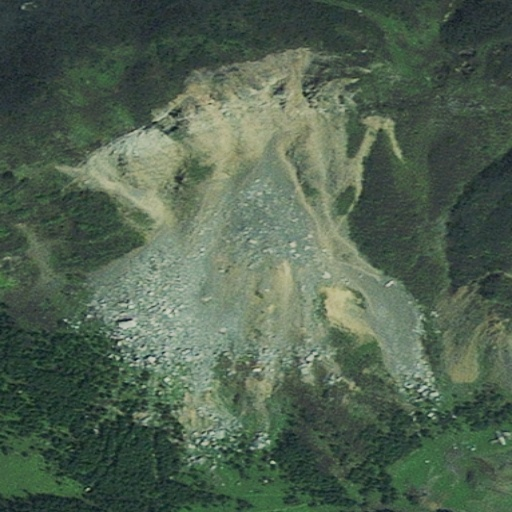landslide: (98, 49, 420, 424)
